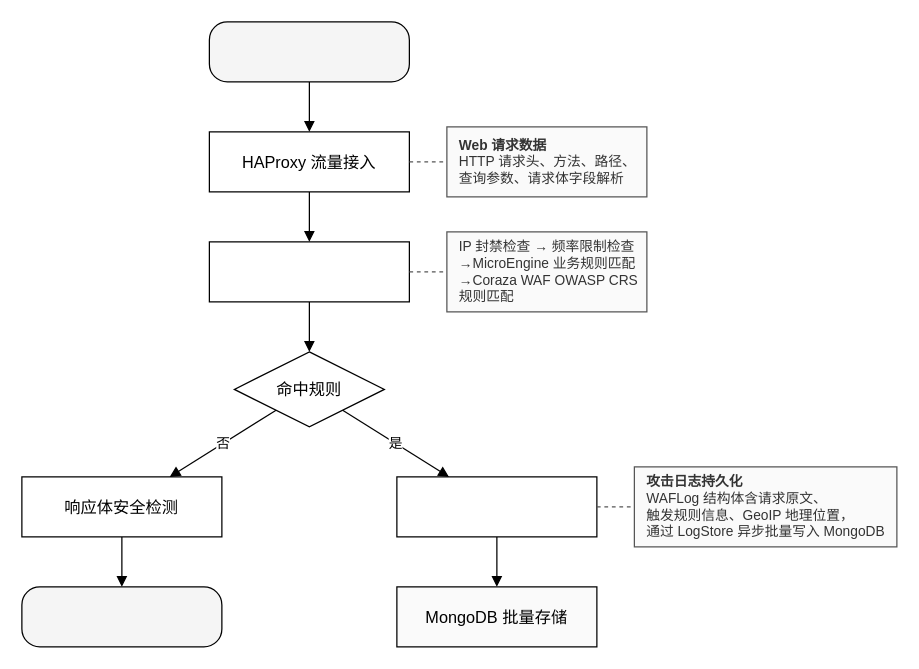
Image size: 919x669. Some labels were removed from this diagram. The shapes that lost their labels are listed below. From the top down, each one's centre as x and y in pixels, then its label:
(308,51): HTTP 请求到达
(308,271): 多层安全引擎检测
(496,506): 拦截并记录攻击日志
(121,616): 放行至后端服务
